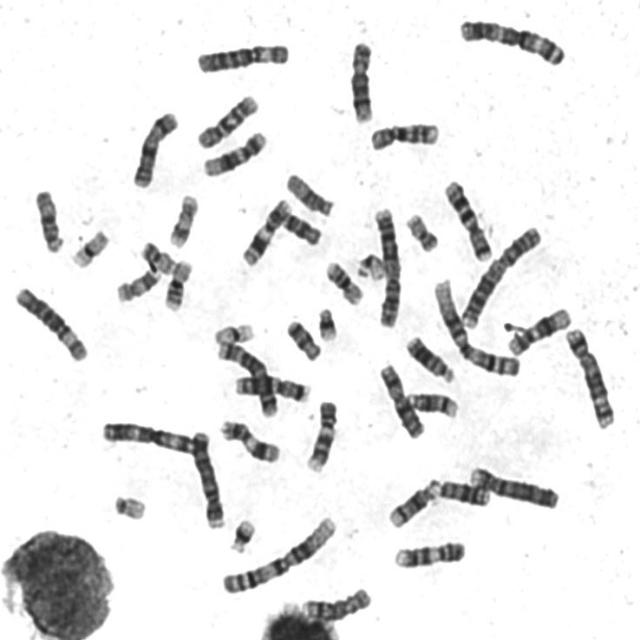A1: (216, 510, 340, 597), (427, 273, 523, 380)
A2: (456, 220, 544, 330), (369, 202, 404, 330)
A3: (454, 12, 568, 68), (97, 414, 207, 457)
B4: (465, 461, 562, 511), (188, 425, 228, 530)
B5: (561, 321, 618, 430), (212, 336, 280, 420)
C10: (192, 88, 260, 150), (365, 116, 442, 152)
C11: (237, 193, 294, 268), (215, 414, 283, 464)
C12: (504, 300, 573, 356), (198, 124, 269, 178)
C6: (10, 281, 90, 364), (191, 36, 291, 75)
C7: (439, 175, 495, 263), (230, 368, 314, 404)
C8: (297, 581, 374, 623), (346, 35, 376, 125)
C9: (302, 394, 340, 474), (388, 534, 468, 571)
D13: (402, 329, 457, 384), (425, 473, 492, 508)
D14: (383, 477, 440, 530), (402, 387, 461, 420)
D15: (282, 168, 336, 218), (29, 183, 66, 255)
E16: (321, 256, 365, 306), (160, 254, 194, 312)
E17: (164, 189, 200, 250), (111, 262, 163, 304)
E18: (282, 314, 323, 362), (278, 205, 324, 247)
F19: (66, 223, 111, 270), (209, 316, 257, 346)
F20: (400, 207, 440, 254), (136, 235, 179, 276)
G21: (224, 514, 258, 555), (313, 302, 340, 342)
G22: (353, 246, 390, 285), (108, 488, 148, 522)
X: (128, 105, 180, 190), (374, 358, 426, 441)
